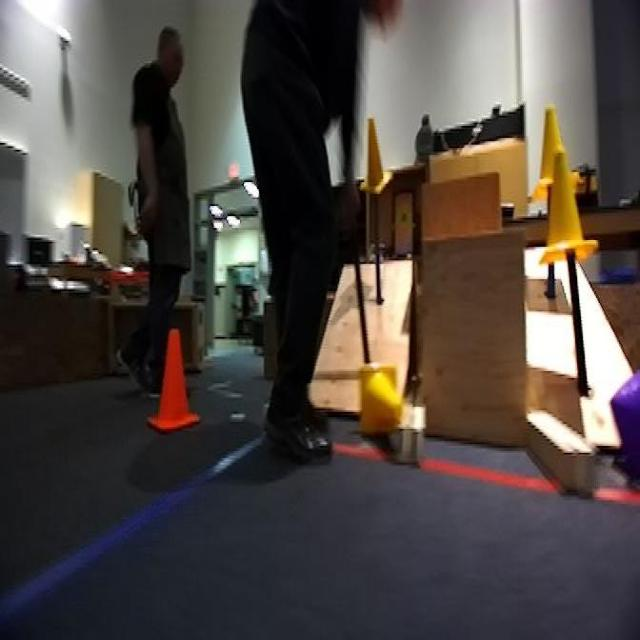frc_cone: (542, 140, 588, 269), (530, 108, 580, 210), (355, 368, 401, 430), (363, 117, 390, 177)
frc_cube: (608, 357, 640, 491)
